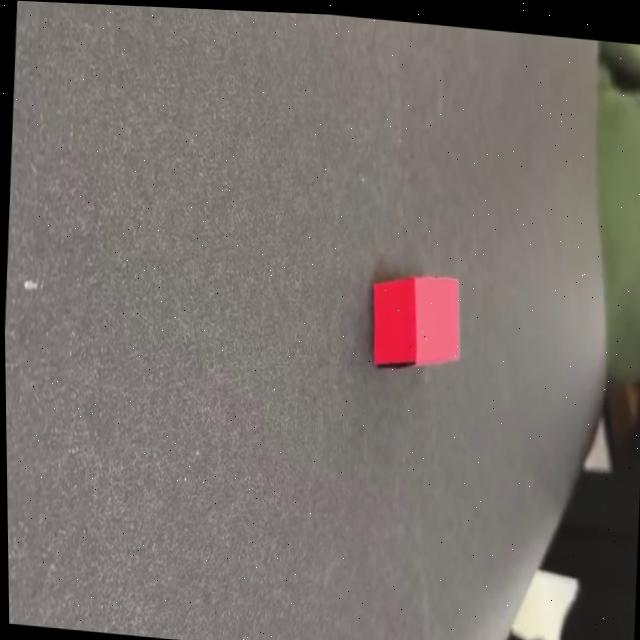red block: (367, 270, 465, 379)
